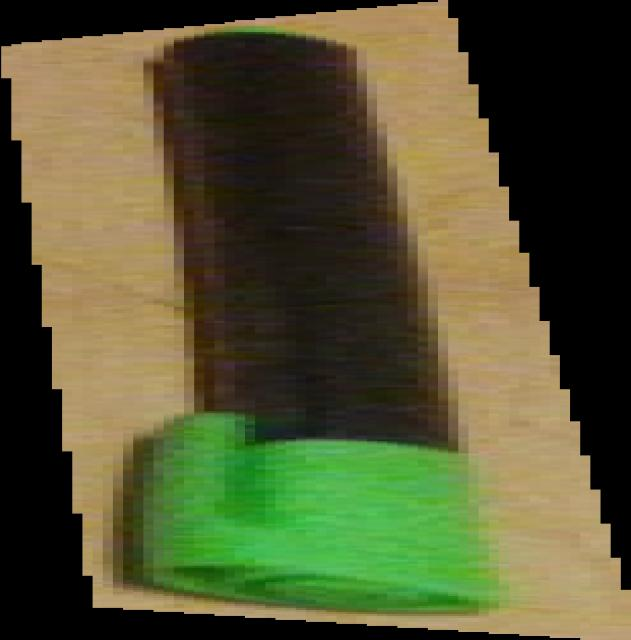green: (0, 0, 631, 640)
